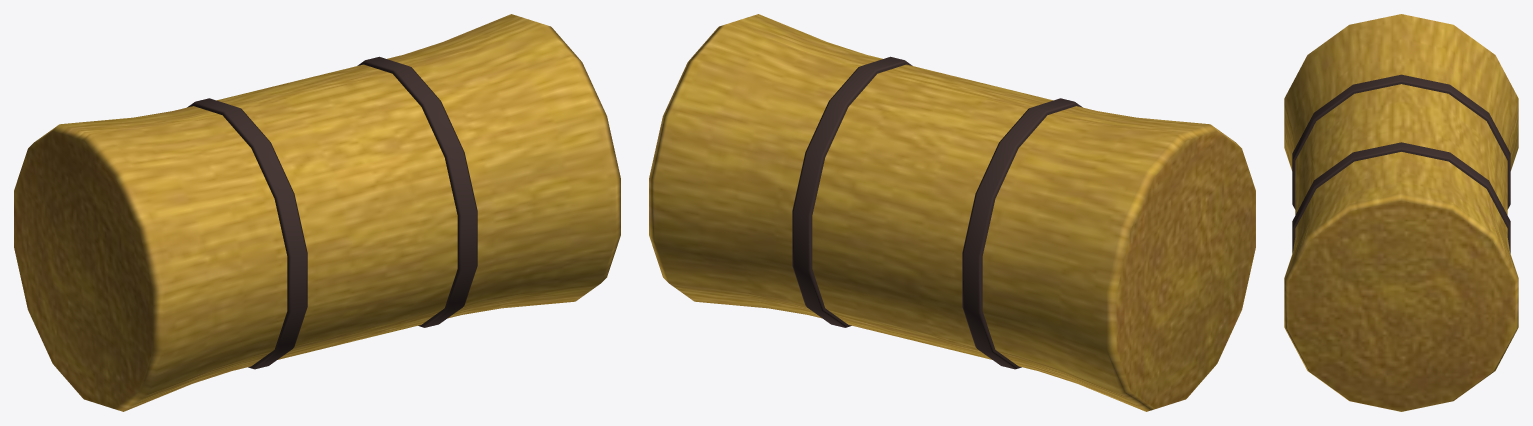
3 views of the same model, side by side, from view 1: azimuth 30°, elevation 25°; view 2: azimuth 150°, elevation 25°; view 3: azimuth 270°, elevation 25° (orthographic). The views are drawn at different scales.
Visible parts, largest first — view 1: SM_maiduo; view 2: SM_maiduo; view 3: SM_maiduo.
Part boxes in pixels (bbox=[...]): SM_maiduo: bbox=[14, 14, 620, 411]; SM_maiduo: bbox=[649, 14, 1255, 411]; SM_maiduo: bbox=[1284, 14, 1518, 411].
Size of the model in its own units: 1.46 by 0.7978 by 0.7778.
1 material, 1 textured.
